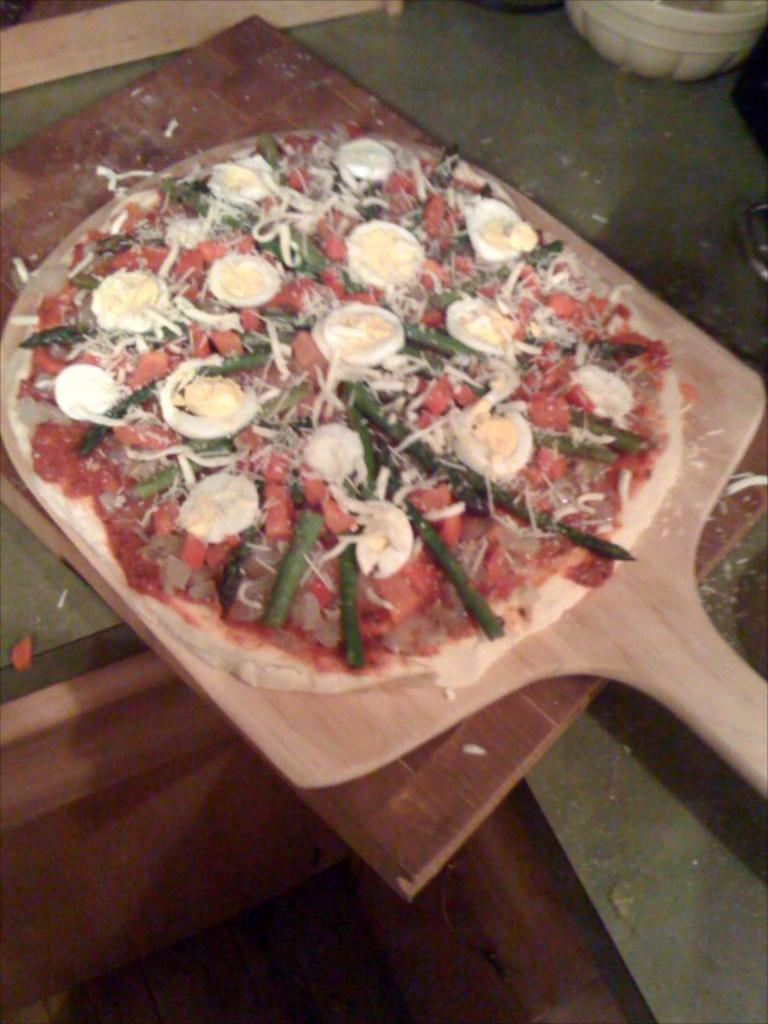Pizza: (9, 107, 670, 803)
